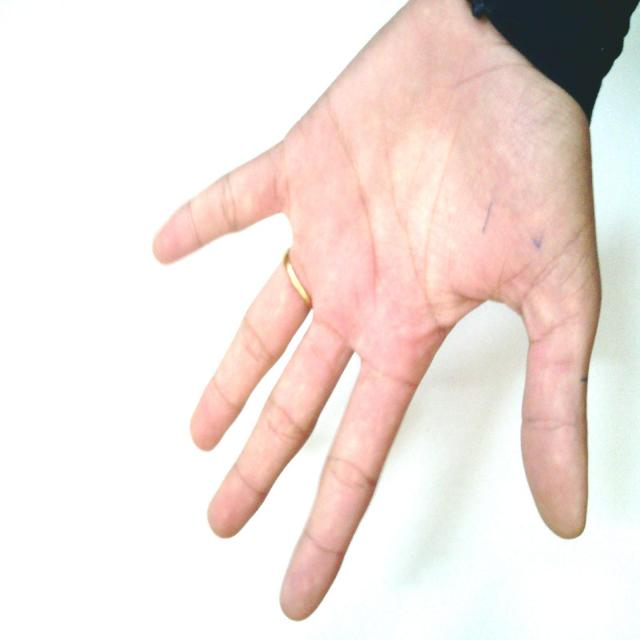others: (98, 1, 626, 630)
